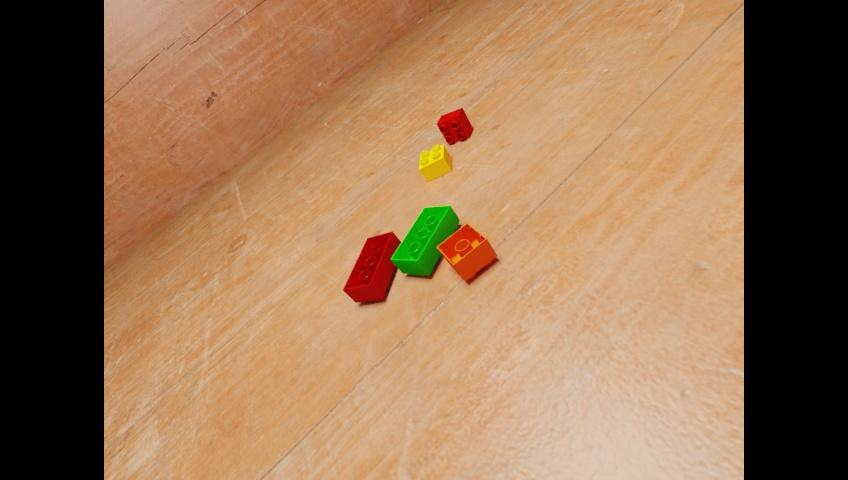2x2_orange: (436, 222, 496, 280)
2x2_red: (436, 107, 472, 144)
2x2_yellow: (419, 144, 450, 181)
4x2_green: (390, 204, 459, 275)
4x2_red: (342, 231, 401, 302)
